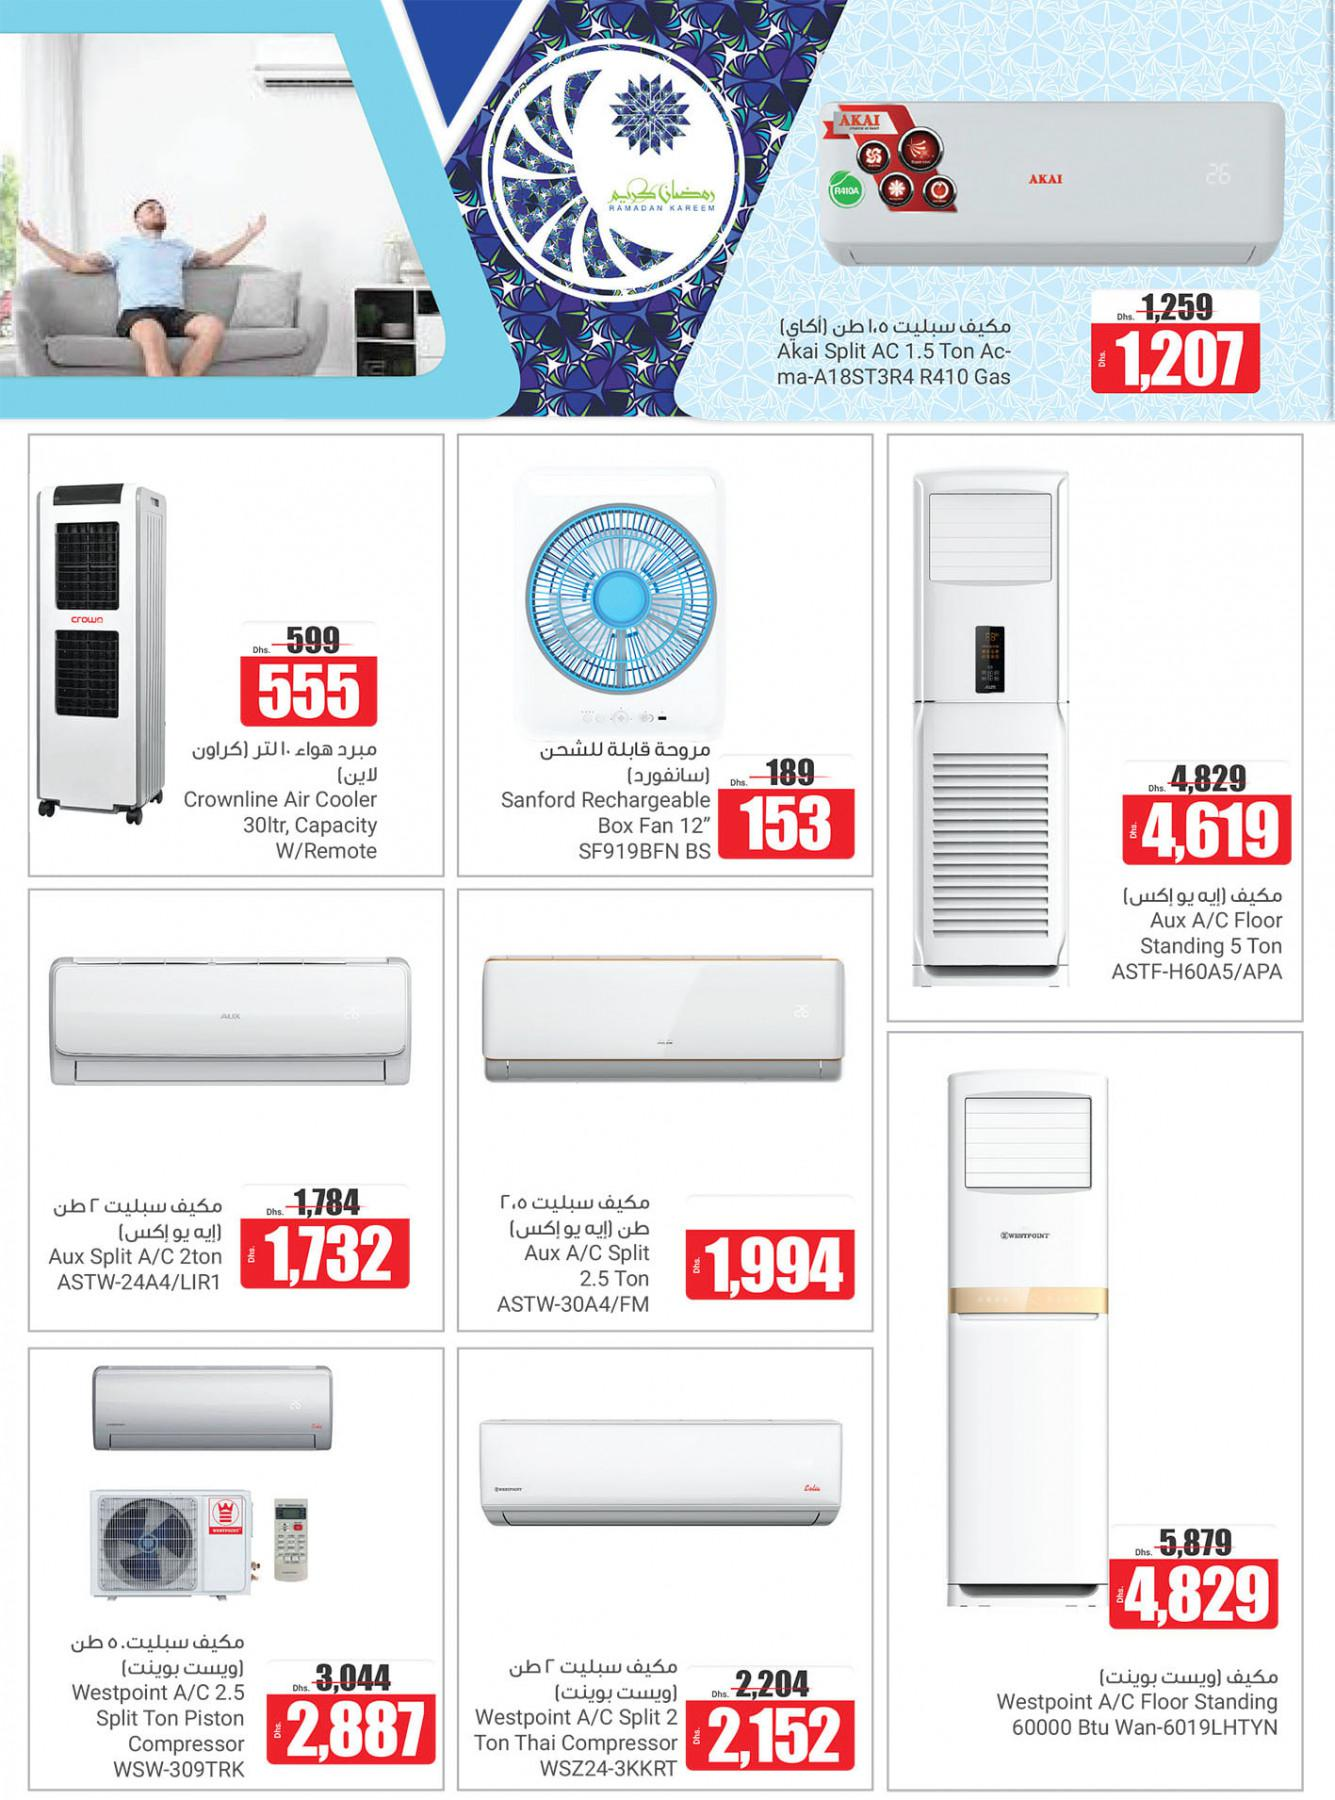text: (58, 1679, 259, 1784), (177, 782, 412, 867), (486, 783, 716, 869), (461, 1701, 684, 1785), (988, 1687, 1287, 1741), (1098, 908, 1292, 989), (478, 1240, 667, 1323), (765, 340, 1035, 392), (183, 735, 404, 792), (36, 1242, 230, 1304), (62, 1622, 258, 1683), (36, 1193, 235, 1249), (523, 737, 721, 791), (483, 1186, 663, 1242), (496, 1655, 682, 1705), (767, 305, 1026, 340), (1110, 877, 1290, 914), (1080, 1663, 1289, 1692)
